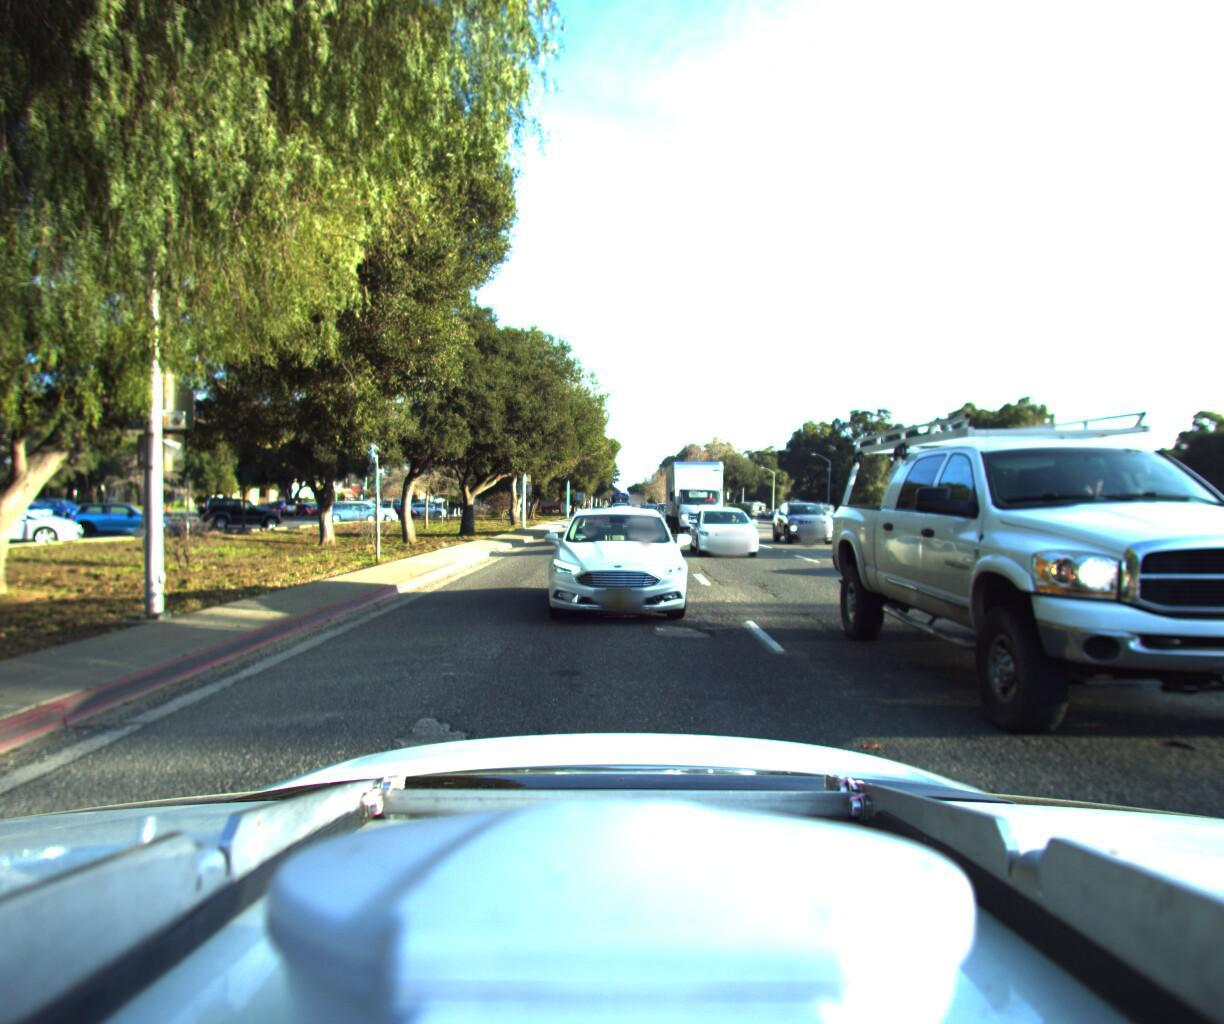car: (829, 326, 1224, 867), (541, 500, 685, 640), (1149, 498, 1224, 560), (689, 498, 766, 556), (771, 496, 843, 544)
truck: (662, 451, 728, 539)
